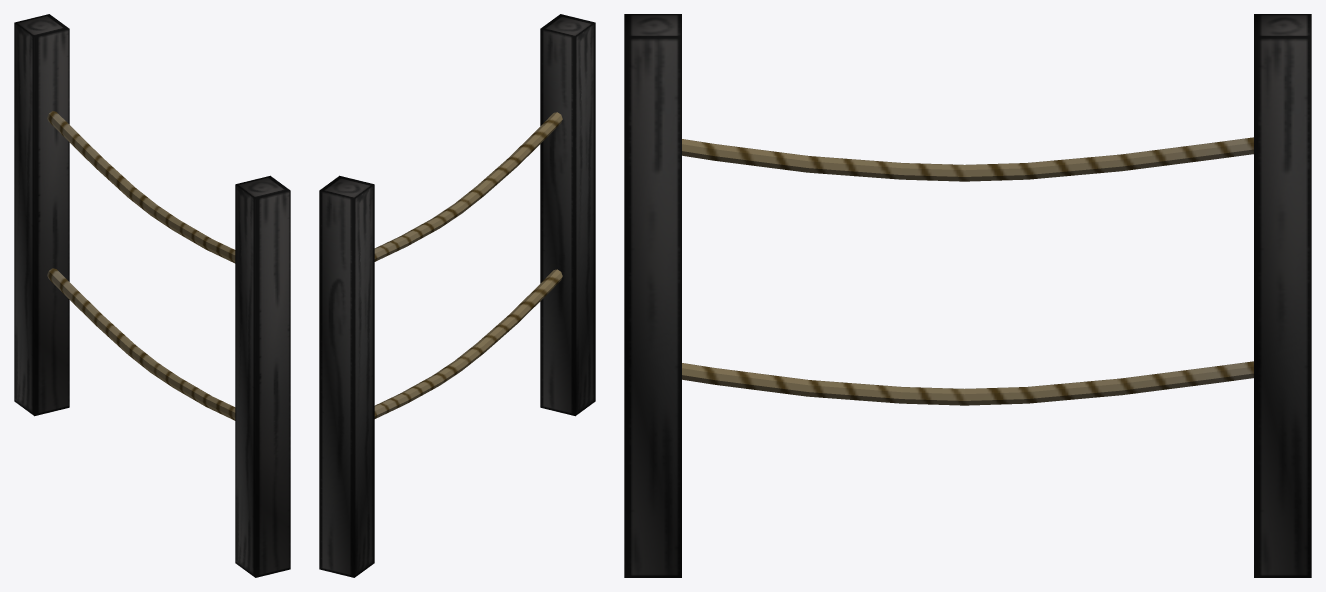
The model's file is FencePole.fbx.
3 renders of one model, left to right at view 1: azimuth 30°, elevation 25°; view 2: azimuth 150°, elevation 25°; view 3: azimuth 270°, elevation 25°, orthographic. The views are drawn at different scales.
Visible parts, largest first — view 1: Fence; view 2: Fence; view 3: Fence.
Part boxes in pixels (x1=…): Fence: x1=14, y1=14, x2=290, y2=577; Fence: x1=319, y1=14, x2=595, y2=577; Fence: x1=624, y1=14, x2=1311, y2=577.
Size of the model in its own units: 7.91 by 81.39 by 93.98.
